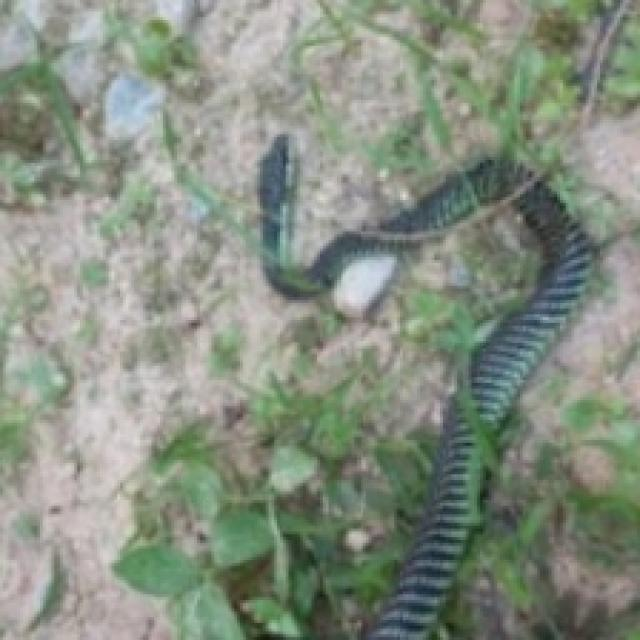paradise tree snake: (257, 134, 591, 426), (363, 394, 480, 637)
